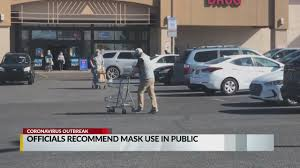mask: (90, 45, 102, 58), (45, 49, 51, 55), (58, 50, 62, 55)
